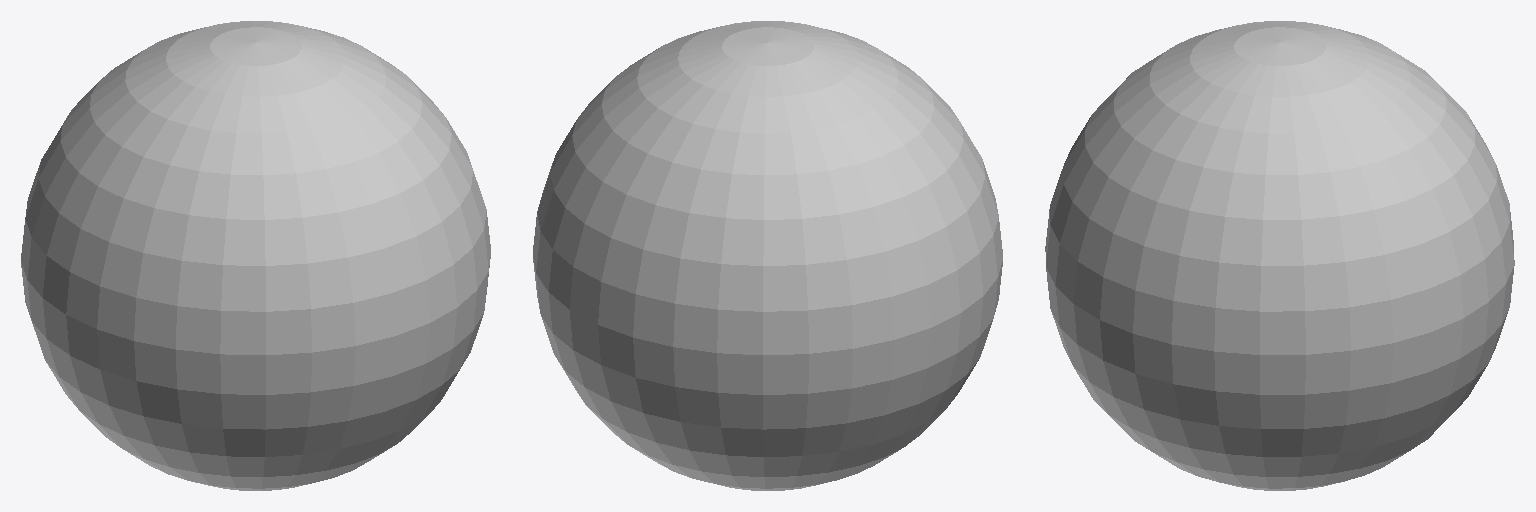
Rendered from mesh_legjoint_r1.obj.
3 renders of one model, left to right at view 1: azimuth 30°, elevation 25°; view 2: azimuth 150°, elevation 25°; view 3: azimuth 270°, elevation 25°, orthographic.
Visible parts, largest first — view 1: Sphere.002_Sphere.003; view 2: Sphere.002_Sphere.003; view 3: Sphere.002_Sphere.003.
Boxes of the visible parts, x1,y1,x2,y2 form: Sphere.002_Sphere.003: [21, 21, 490, 490]; Sphere.002_Sphere.003: [533, 21, 1002, 490]; Sphere.002_Sphere.003: [1045, 21, 1514, 490].
Bounding box in the file's own units: 0.2989 × 0.3 × 0.2989.